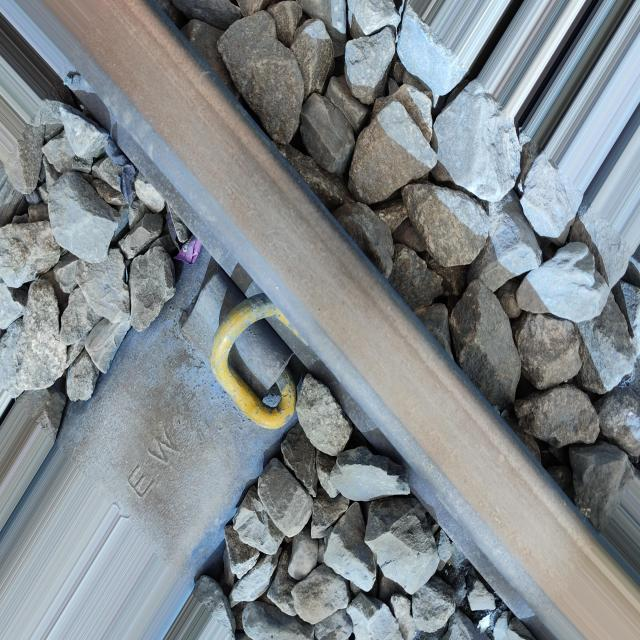Good Fasteners: (176, 278, 312, 435)
